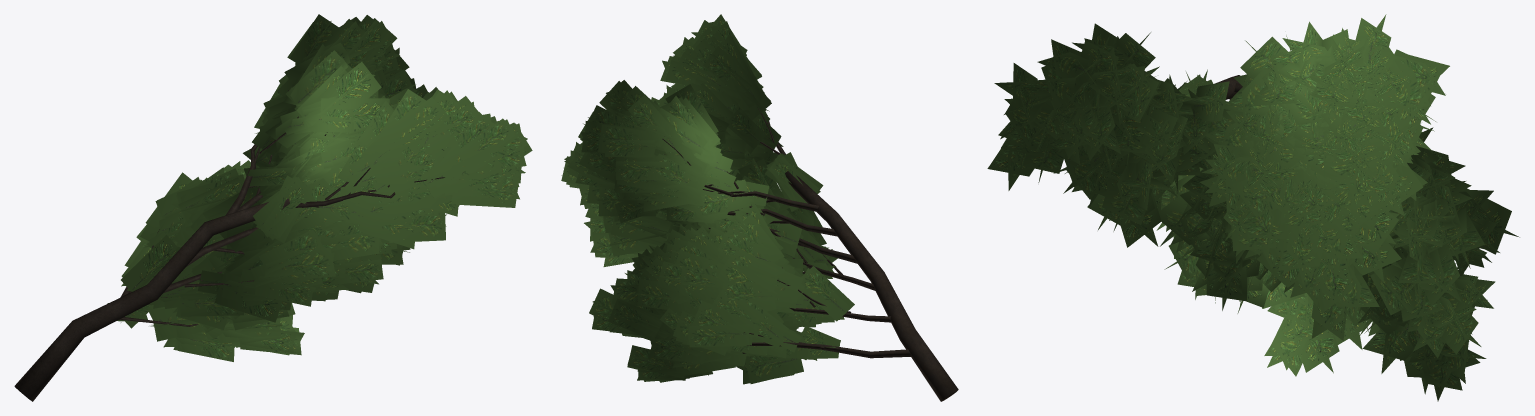
File: krummholz_pine_v02_LOD1.fbx
The picture shows the model from 3 angles, left to right: view 1: azimuth 30°, elevation 25°; view 2: azimuth 150°, elevation 25°; view 3: azimuth 270°, elevation 25°; orthographic projection. The views are drawn at different scales.
Parts seen in each view (by area): view 1: krummholz_pine_v02_LOD1; view 2: krummholz_pine_v02_LOD1; view 3: krummholz_pine_v02_LOD1.
Part boxes in pixels (x1,y1,x2,y2): krummholz_pine_v02_LOD1: (14,14,532,401); krummholz_pine_v02_LOD1: (561,14,958,401); krummholz_pine_v02_LOD1: (987,14,1519,401).
Size of the model in its own units: 417 by 321 by 271.
Materials: 2 (2 with a texture image).
